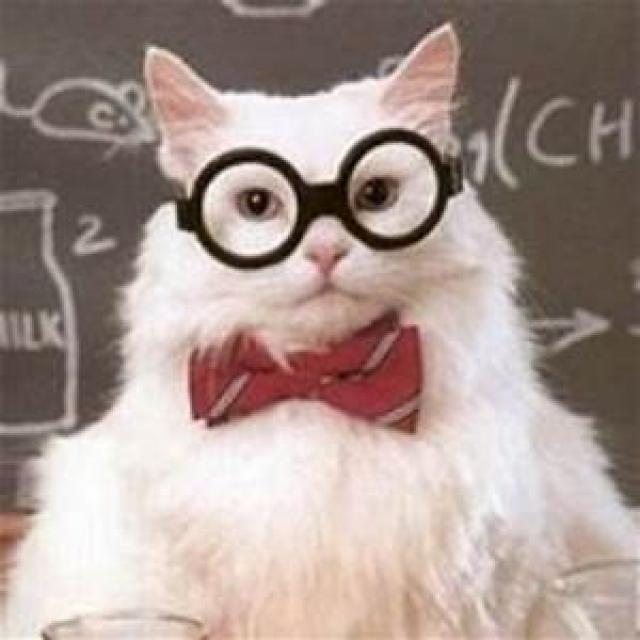KEDI: (2, 17, 638, 640)
